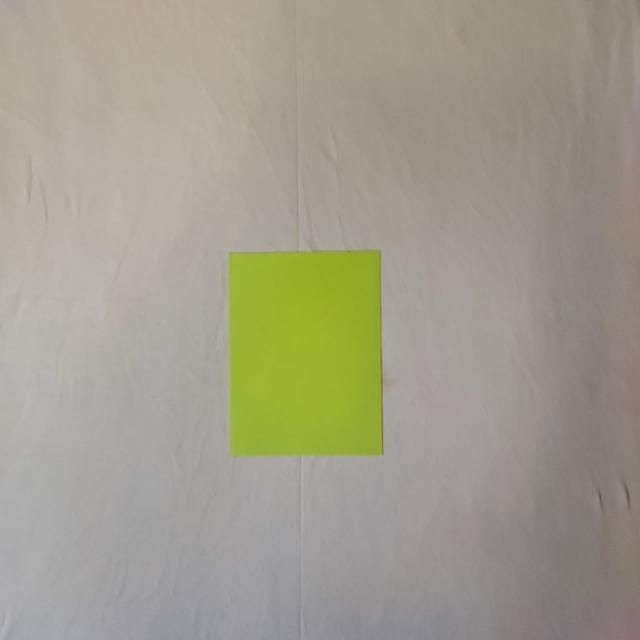Box: (226, 251, 384, 460)
